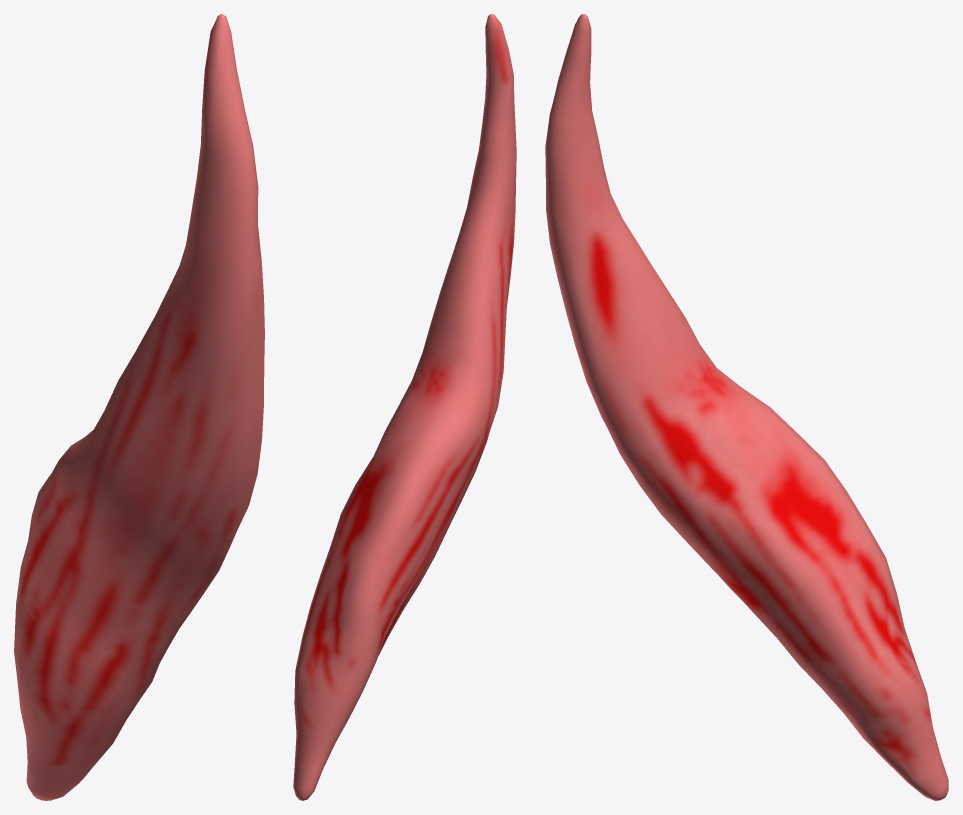
The model's file is Bicep_Brachii.glb.
The picture shows the model from 3 angles, left to right: view 1: azimuth 30°, elevation 25°; view 2: azimuth 150°, elevation 25°; view 3: azimuth 270°, elevation 25°; orthographic projection. The views are drawn at different scales.
Visible parts, largest first — view 1: bicep_brachii1.001; view 2: bicep_brachii1.001; view 3: bicep_brachii1.001.
Boxes of the visible parts, <box> form: bicep_brachii1.001: <box>14,14,264,800</box>; bicep_brachii1.001: <box>293,14,516,800</box>; bicep_brachii1.001: <box>545,14,948,800</box>.
Size of the model in its own units: 0.0514 by 0.2996 by 0.1427.
Materials: 1 (1 with a texture image).
